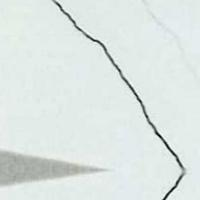crack: (54, 1, 187, 199)
